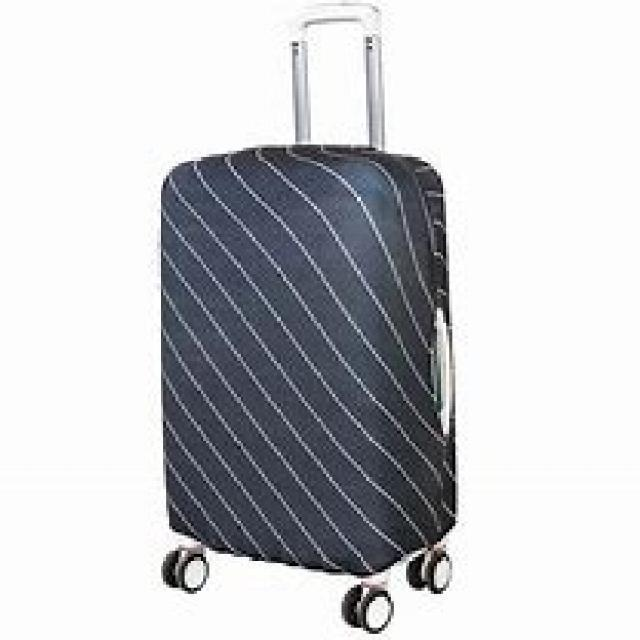Suitcase: (144, 0, 478, 634)
